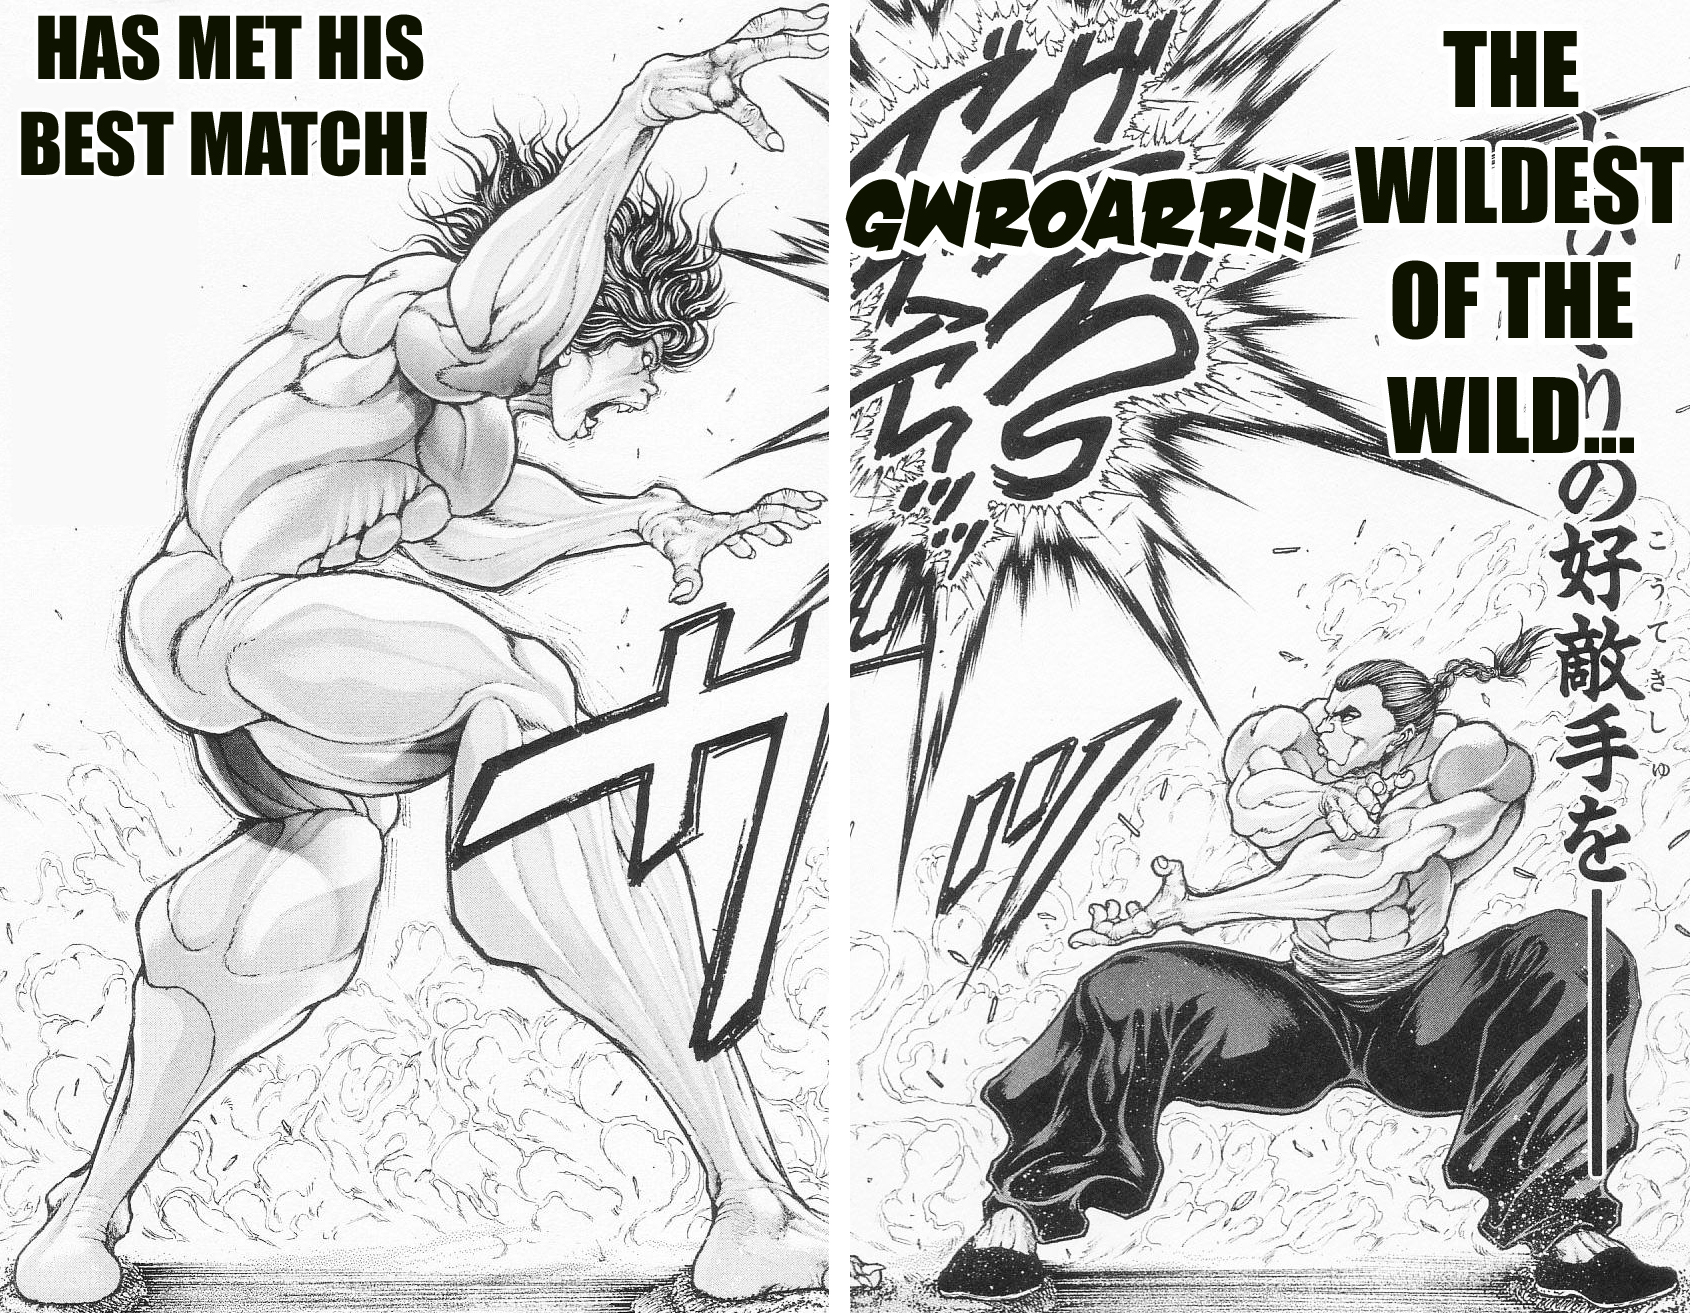Baloon: (1340, 10, 1691, 477), (19, 5, 444, 183)
Vignetta: (1, 1, 1692, 1310)
